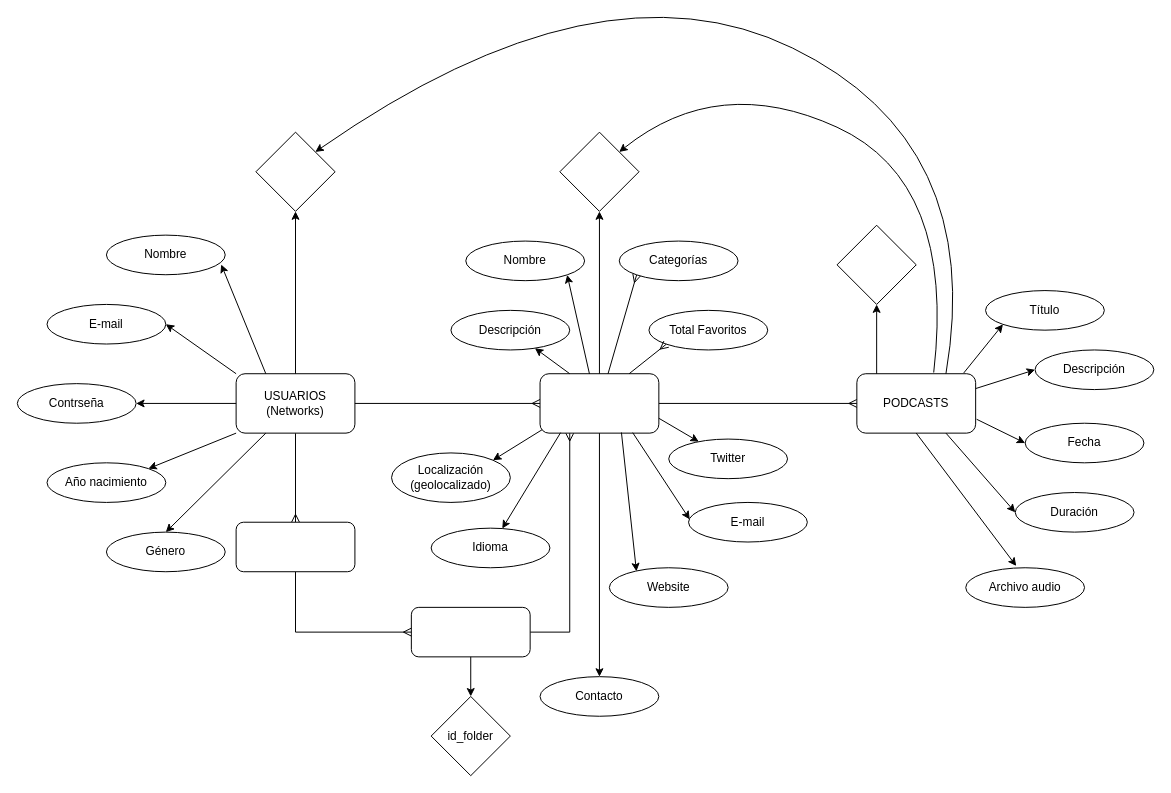
Some shapes in this 1171 by 793 pixel diagram are drawn without their labels. The centre of each missing label's shape, as x and y in pixels:
"CANAL" goes at [599,403].
"Canales Favoritos" goes at [295,546].
"Folders" goes at [470,631].
"id_canal" goes at [599,171].
"id_podcasts" goes at [876,264].
"id_user" goes at [295,171].
